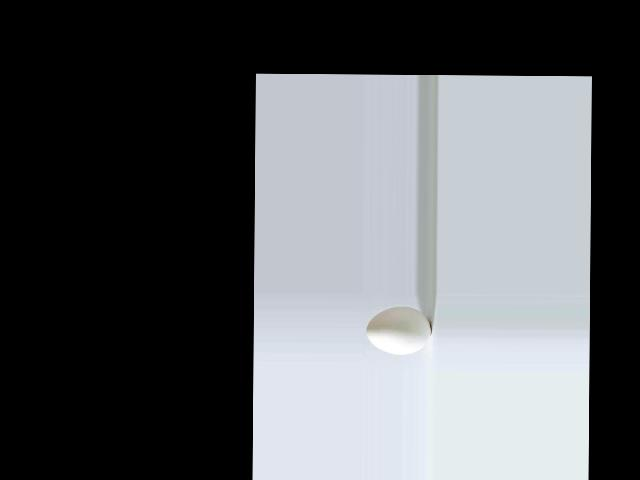egg: (366, 307, 431, 355)
